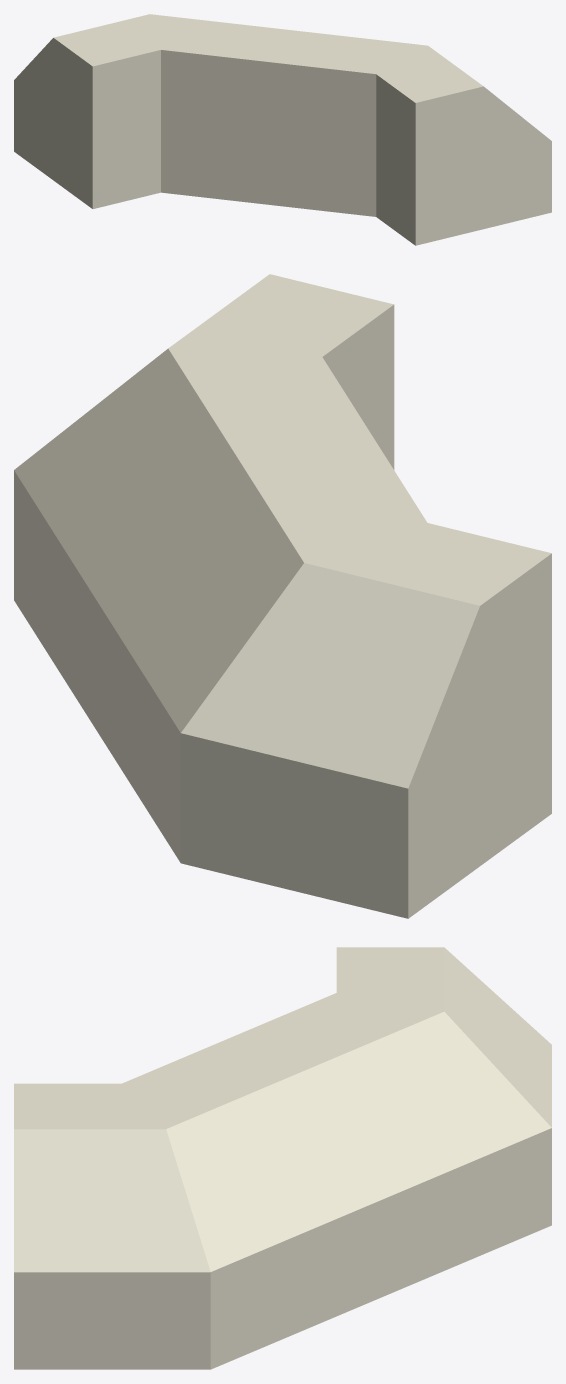
File: Shape_Trim_90_Out.glb
3 views of the same model, one above another, from view 1: azimuth 30°, elevation 25°; view 2: azimuth 150°, elevation 25°; view 3: azimuth 270°, elevation 25° (orthographic). The views are drawn at different scales.
Visible parts, largest first — view 1: Shape_Trim_90_Out; view 2: Shape_Trim_90_Out; view 3: Shape_Trim_90_Out.
Boxes of the visible parts, x1,y1,x2,y2 form: Shape_Trim_90_Out: [14, 14, 551, 245]; Shape_Trim_90_Out: [14, 274, 551, 918]; Shape_Trim_90_Out: [14, 947, 551, 1369].
Size of the model in its own units: 0.5 by 0.2 by 0.5.
